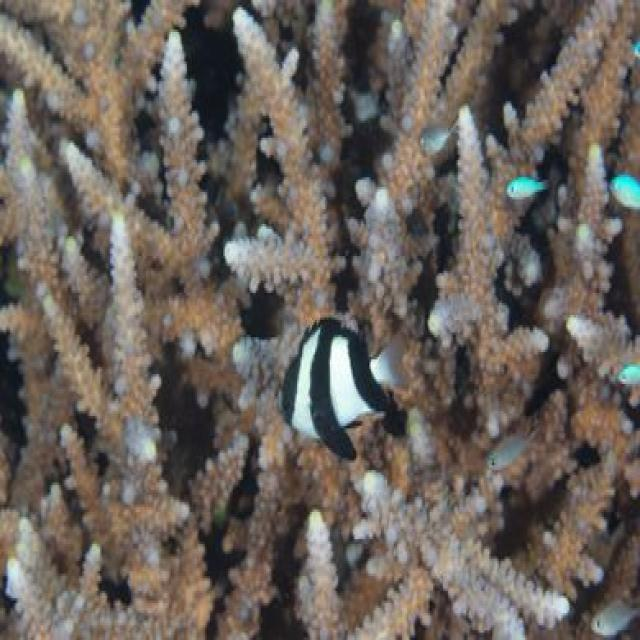ThreeStripedDamselfish: (282, 318, 405, 463)
